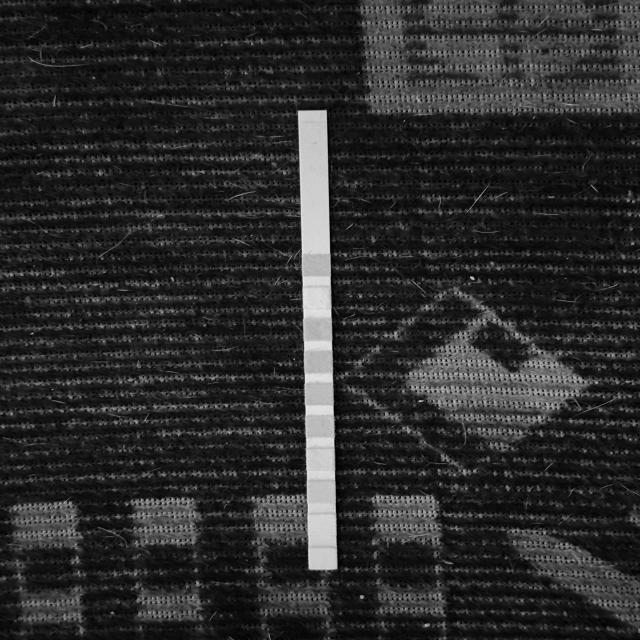Bilirubin: (304, 288, 330, 308)
Blood: (306, 383, 334, 405)
Glucose: (304, 256, 330, 275)
Ketone: (304, 319, 332, 340)
Leukocytes: (309, 547, 336, 569)
Nitrite: (309, 514, 336, 535)
Protein: (308, 448, 334, 469)
SpGravity: (306, 352, 333, 374)
Urobilinogen: (308, 481, 336, 503)
background: (0, 0, 640, 640)
pH: (307, 416, 334, 438)
strip: (299, 122, 337, 569)
